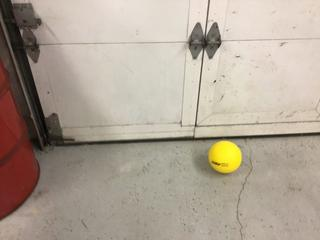power_cell: (207, 139, 244, 173)
